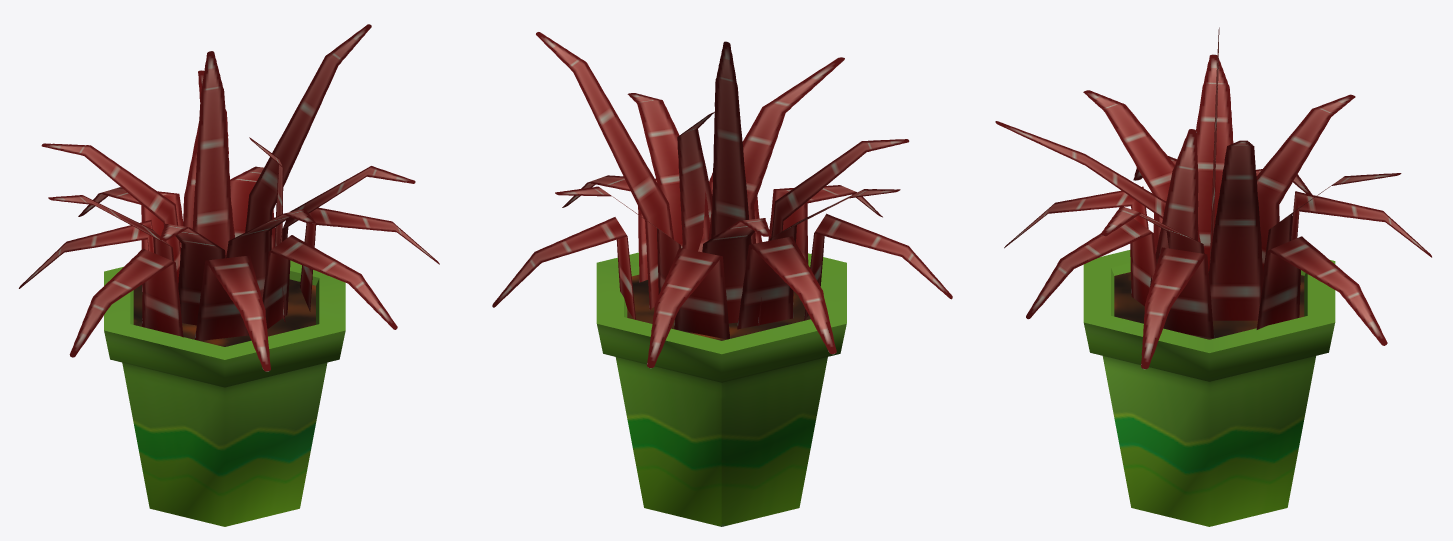
File: Potted Plant_E_3.FBX
3 renders of one model, left to right at view 1: azimuth 30°, elevation 25°; view 2: azimuth 150°, elevation 25°; view 3: azimuth 270°, elevation 25°, orthographic. The views are drawn at different scales.
Visible parts, largest first — view 1: Potted Plant; view 2: Potted Plant; view 3: Potted Plant.
Part boxes in pixels (bbox=[...]): Potted Plant: bbox=[18, 24, 439, 526]; Potted Plant: bbox=[492, 32, 952, 526]; Potted Plant: bbox=[995, 27, 1432, 526].
Size of the model in its own units: 141 by 152 by 134.
Materials: 2 (2 with a texture image).
